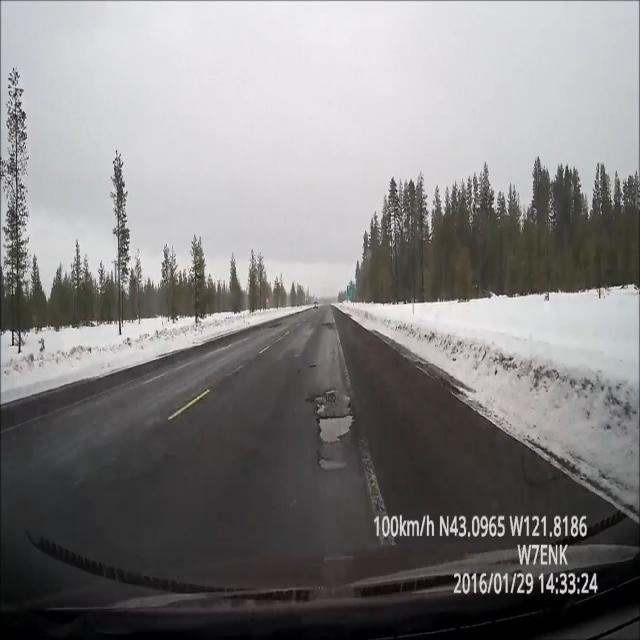pothole: (309, 384, 363, 483)
